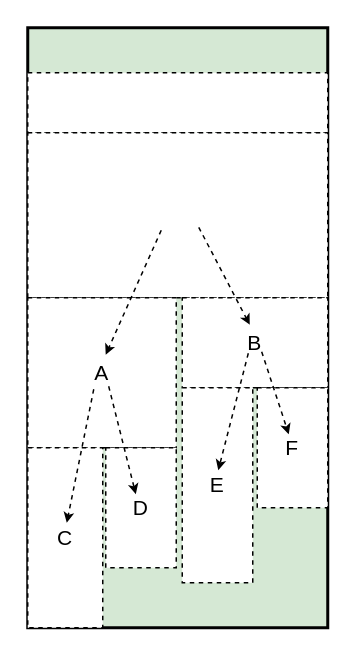
Image size: 354x654. Some labels were removed from this diagram. Here are the shapes that lost their labels. From the top down, the centre of each, then its label:
(x=177, y=102): Overlay Manager
(x=177, y=214): main
